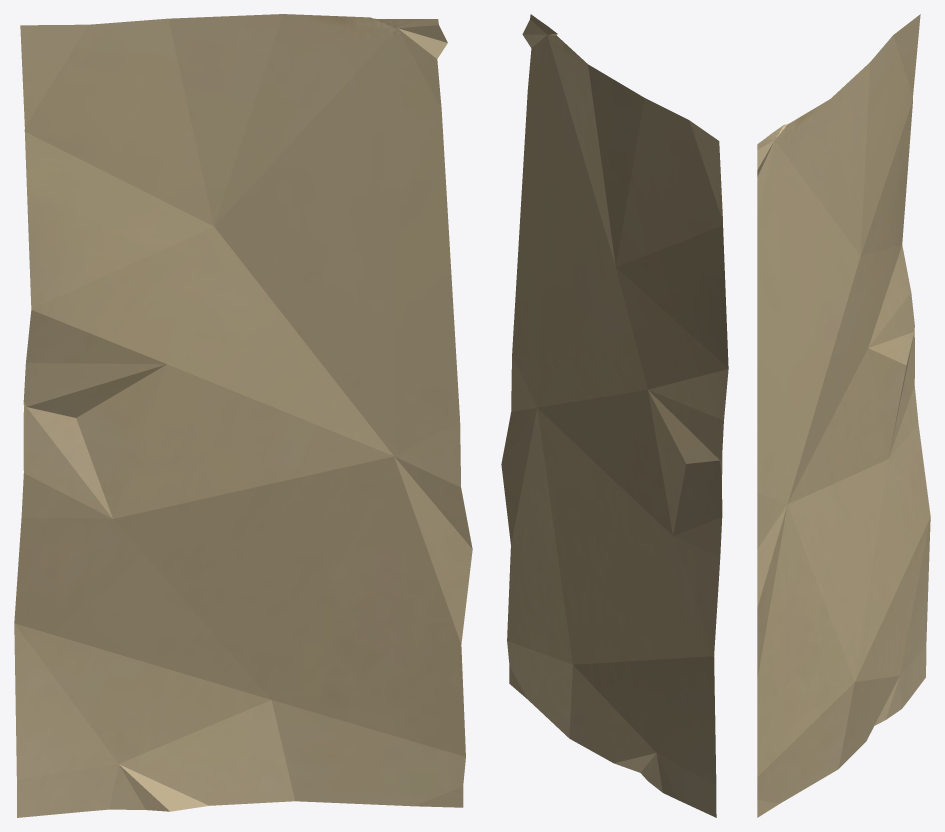
3 renders of one model, left to right at view 1: azimuth 30°, elevation 25°; view 2: azimuth 150°, elevation 25°; view 3: azimuth 270°, elevation 25°, orthographic. The views are drawn at different scales.
Bounding box in the file's own units: 0.3907 × 0.8374 × 0.1983.
Materials: 1 (1 with a texture image).
